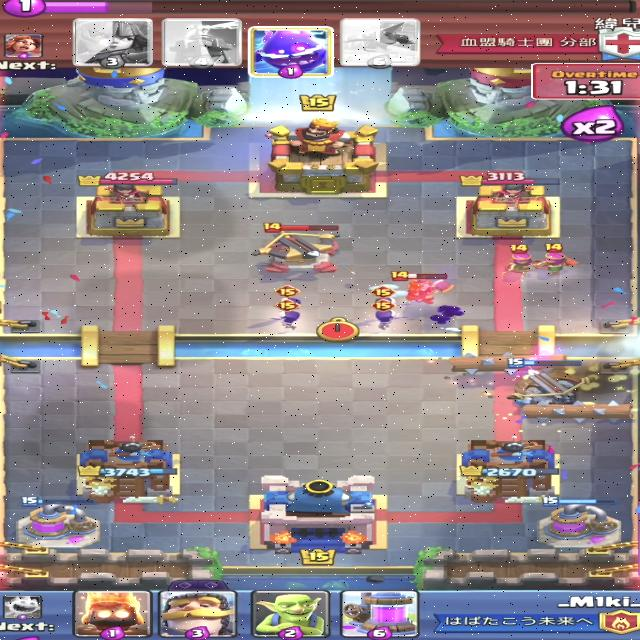Enemy-Archer: (502, 243, 541, 276), (537, 243, 580, 271)
Enemy-Log: (517, 400, 640, 422)
Enemy-Skeleton-Evo: (270, 298, 303, 332), (367, 286, 401, 316), (371, 301, 400, 336), (272, 285, 304, 314)
Enemy-Valkyrie: (389, 270, 456, 306)
Enemy-XBow: (253, 222, 345, 275)
Player-ElixirPump: (536, 496, 624, 550), (15, 497, 105, 549)
Player-XBow: (507, 358, 603, 408)
